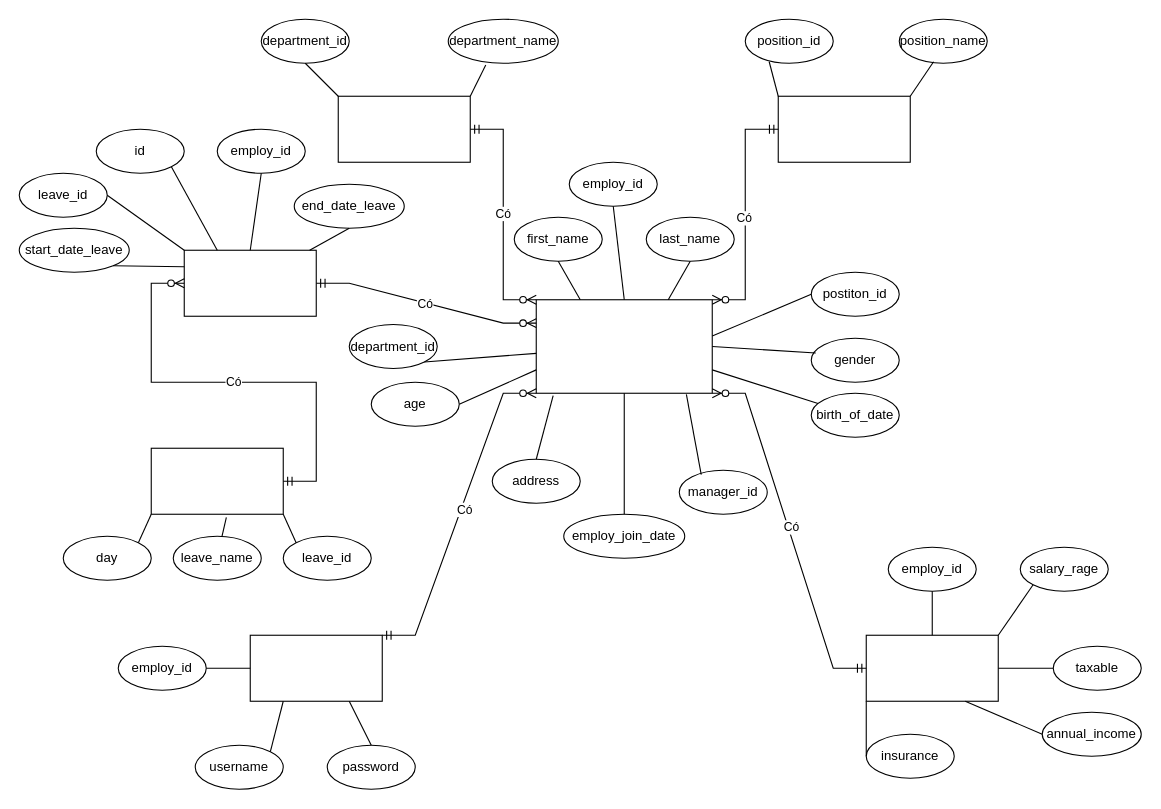
The diagram is 1161 pixels wide and 809 high, and some of its shapes have lost their labels. Here are the shapes that lost their labels. From the top down, the centre of each, then its label:
At [403,128]: "Departments".
At [843,128]: "Positions".
At [249,282]: "Employee_Leaves".
At [623,346]: "Employees".
At [216,480]: "Manage_Leaves".
At [315,667]: "User".
At [931,667]: "Salary_Employees".
